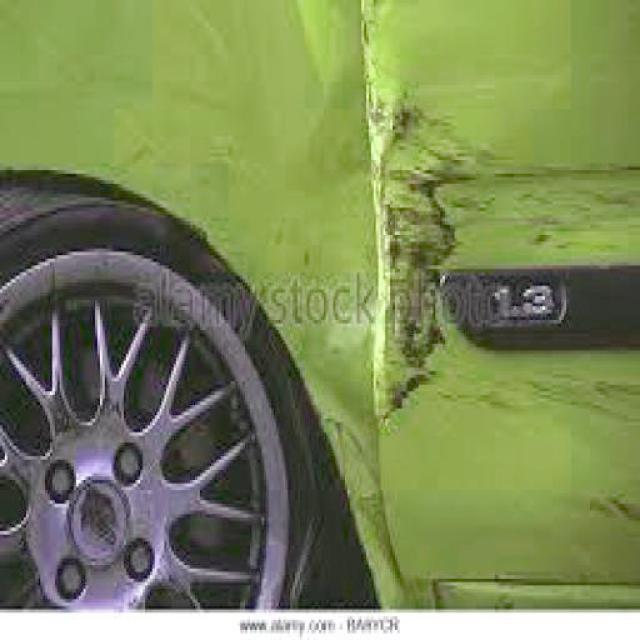car damage: (100, 8, 640, 611)
